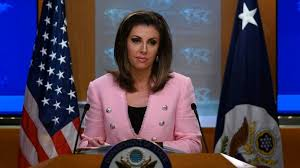middle_eastern_Female: (124, 17, 162, 72)
